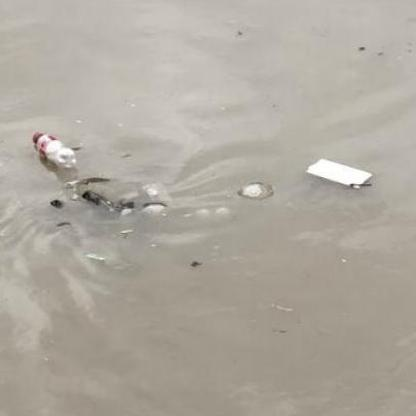foam: (306, 158, 373, 190)
plastic bottle: (33, 132, 78, 169)
